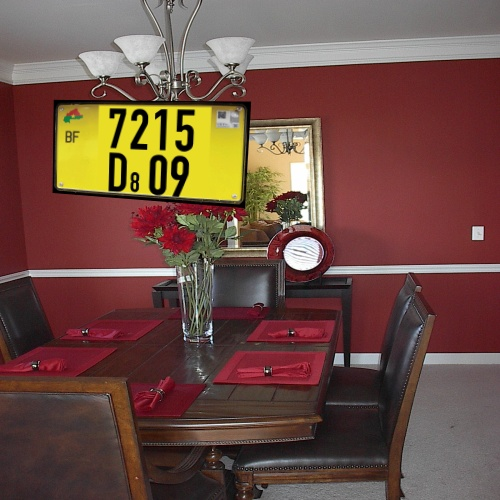plate: (44, 83, 267, 218)
